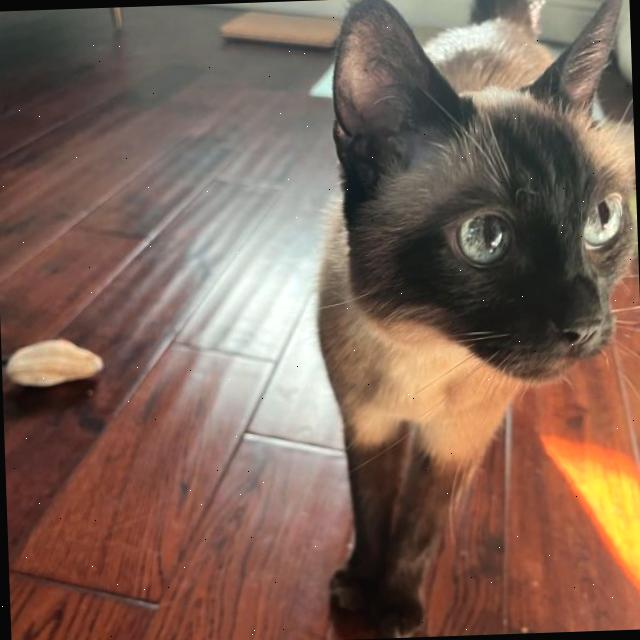siamese_cat: (319, 0, 636, 403)
